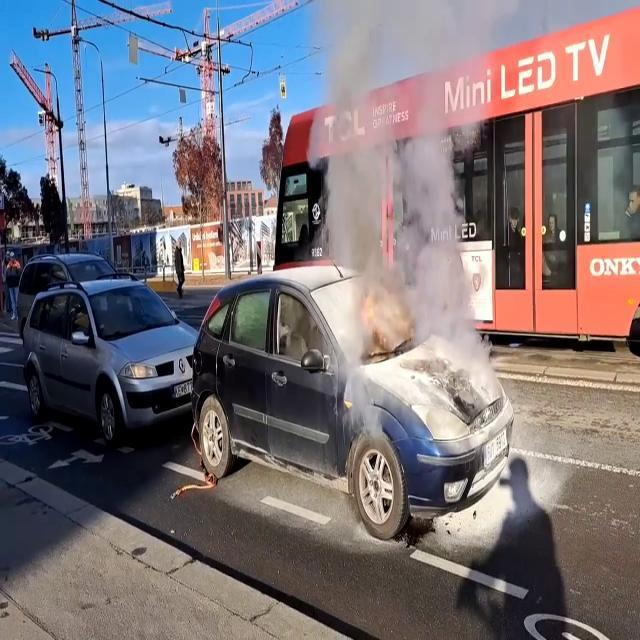Smoke: (298, 0, 492, 327)
